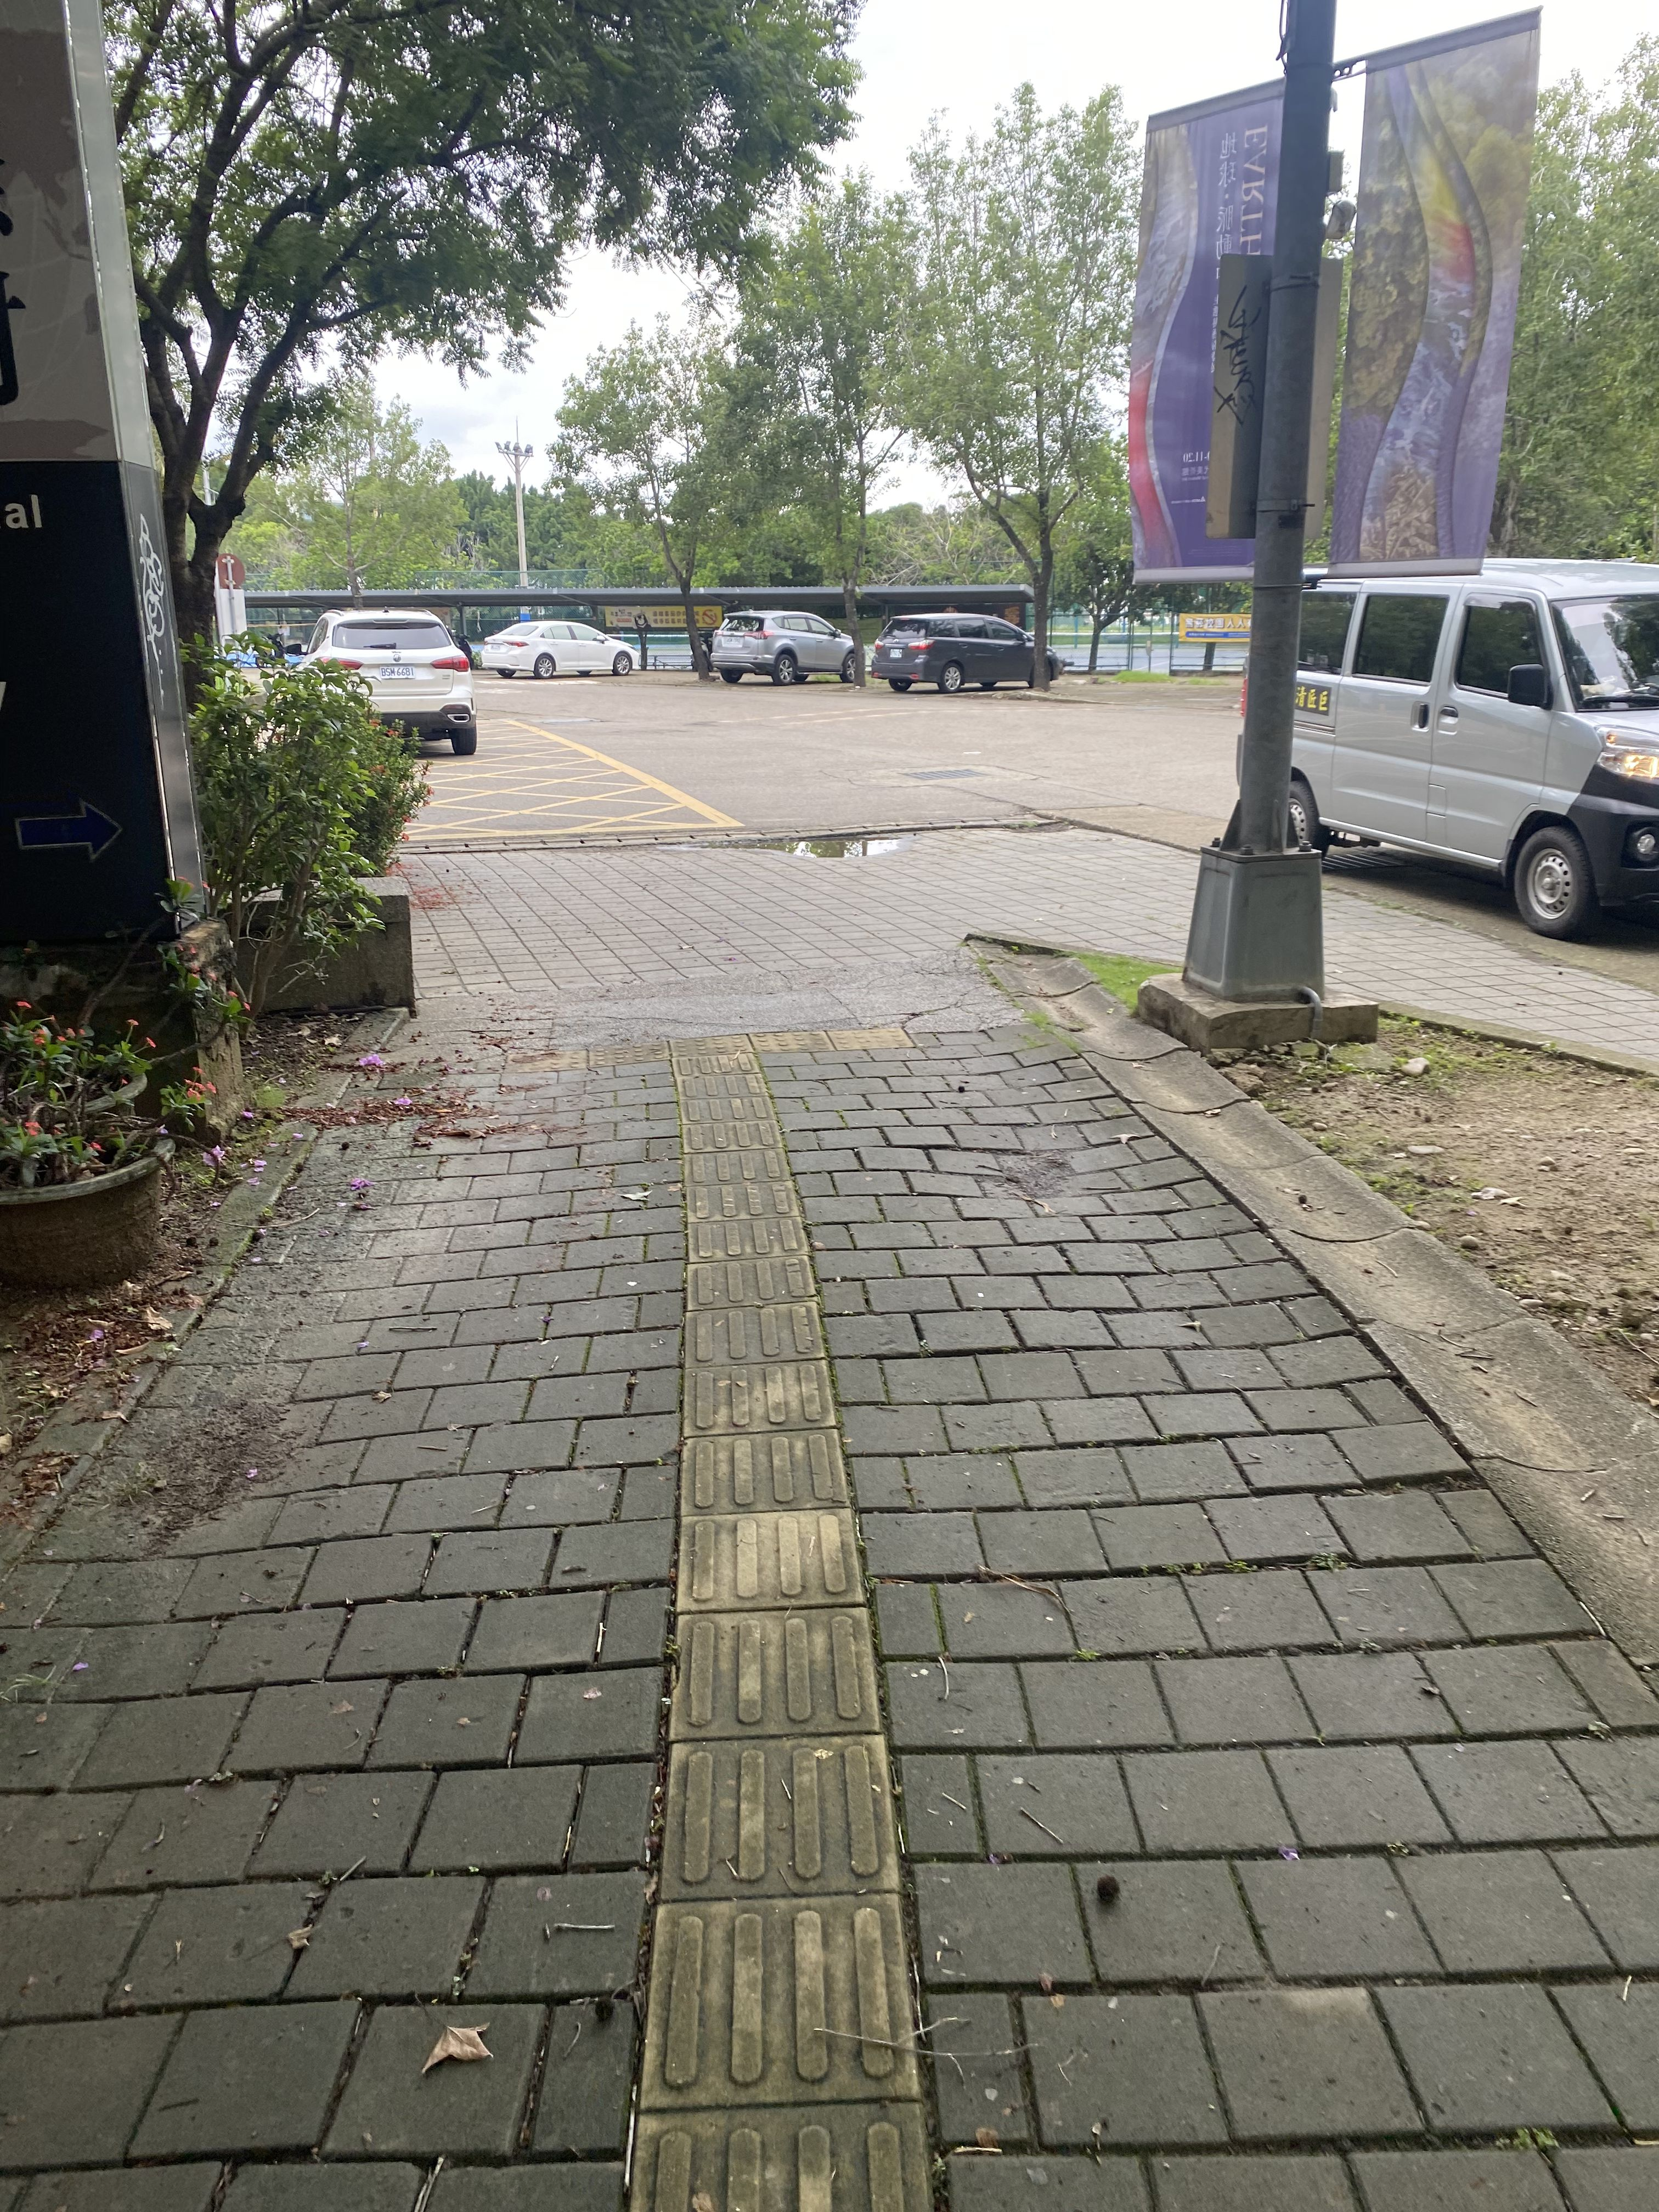sidewalk: (0, 786, 1659, 2210)
